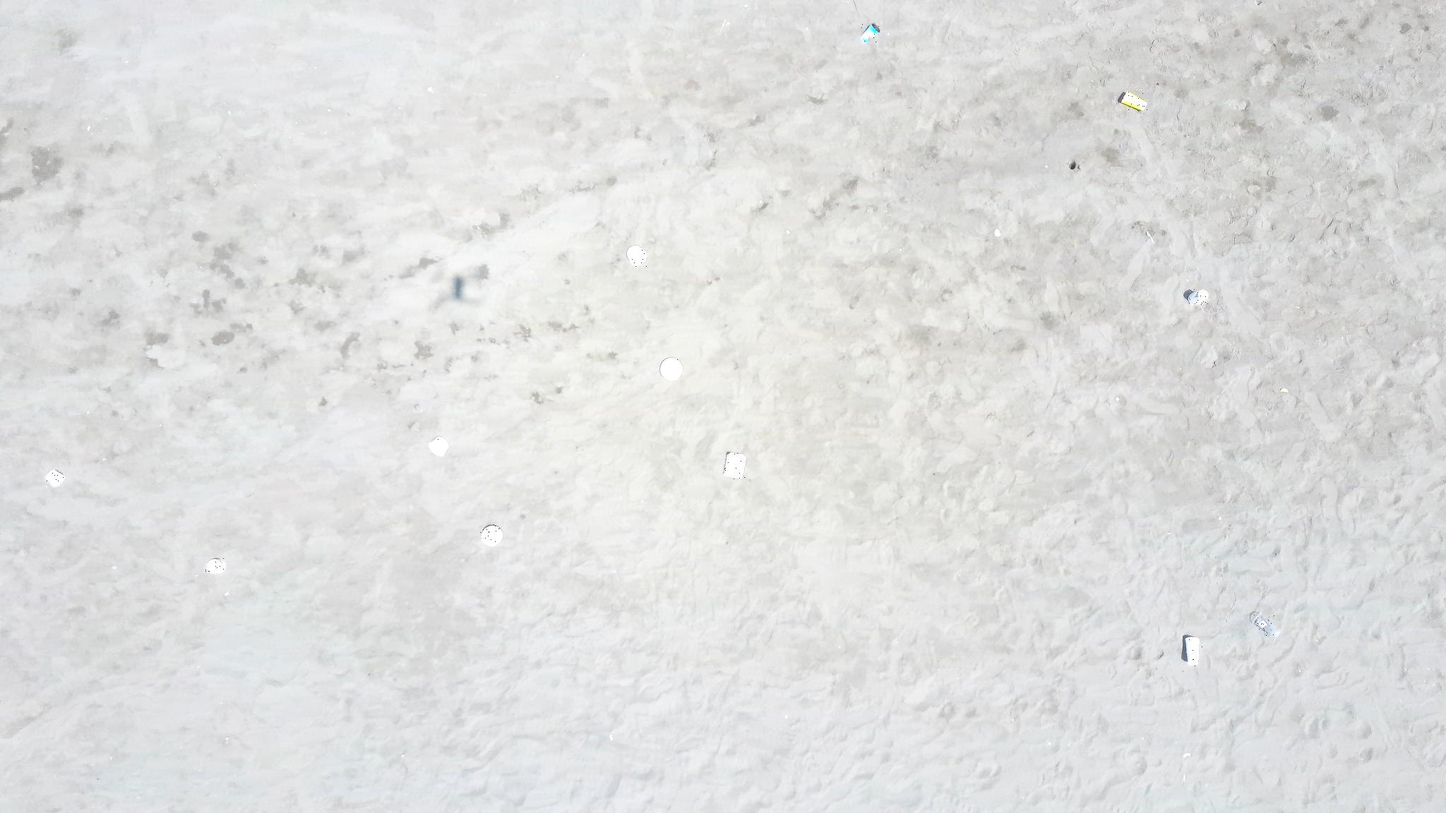Garbage: (1250, 611, 1279, 637), (1118, 91, 1147, 111), (659, 357, 682, 380), (724, 452, 745, 477), (479, 524, 501, 546), (1181, 637, 1197, 665), (1184, 289, 1209, 306), (626, 245, 646, 266), (860, 23, 880, 44), (428, 437, 448, 455), (45, 469, 64, 487), (203, 557, 225, 572), (453, 276, 463, 299), (993, 227, 1000, 237), (1070, 162, 1078, 169), (1279, 387, 1288, 393)
